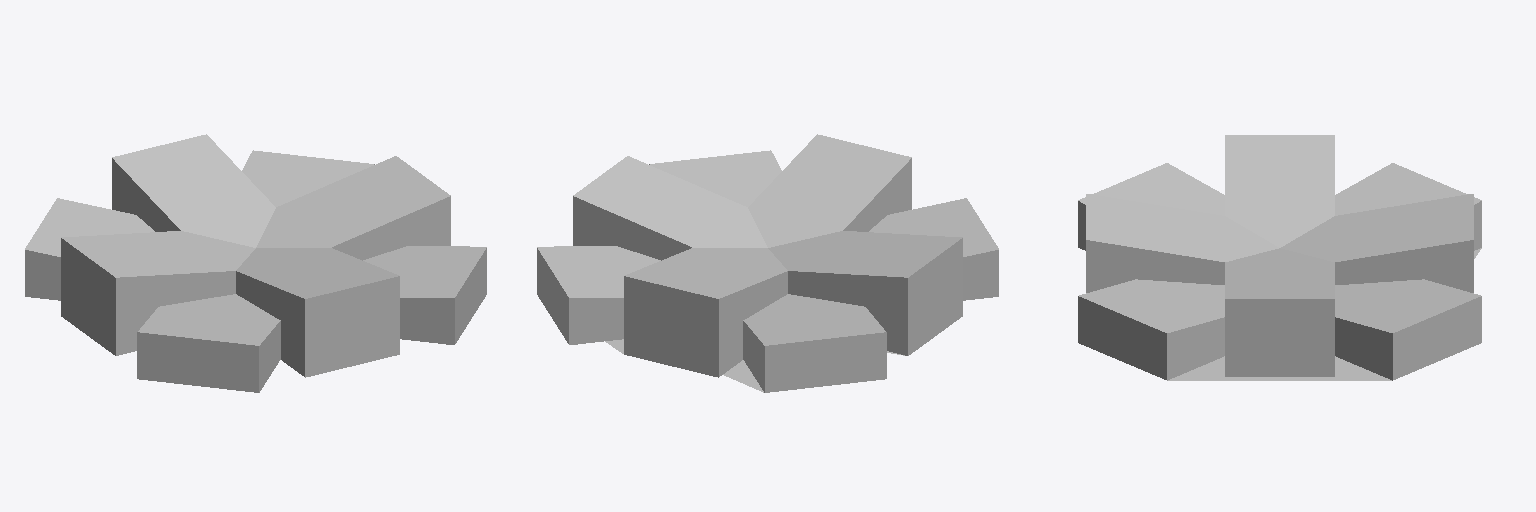
Rendered from Campfire_01.obj.
The picture shows the model from 3 angles: view 1: azimuth 30°, elevation 25°; view 2: azimuth 150°, elevation 25°; view 3: azimuth 270°, elevation 25°; orthographic projection.
Parts seen in each view (by area): view 1: _1, _4, _9, _6, _7, default; view 2: _1, _10, _7, _8, _9, _6, _5; view 3: _1, _2, default, _10, _9, _3.
Part boxes in pixels (left/top/right/bottom): _1: left=61, top=134, right=486, bottom=392; _4: left=137, top=276, right=399, bottom=392; _9: left=25, top=198, right=154, bottom=300; _6: left=61, top=238, right=115, bottom=355; _7: left=112, top=158, right=180, bottom=231; default: left=455, top=248, right=486, bottom=343; _1: left=537, top=134, right=998, bottom=392; _10: left=537, top=248, right=718, bottom=377; _7: left=719, top=271, right=907, bottom=392; _8: left=765, top=332, right=886, bottom=392; _9: left=743, top=294, right=885, bottom=345; _6: left=908, top=238, right=962, bottom=355; _5: left=963, top=250, right=998, bottom=300; _1: left=1078, top=135, right=1481, bottom=380; _2: left=1225, top=299, right=1334, bottom=376; default: left=1078, top=296, right=1166, bottom=379; _10: left=1393, top=296, right=1481, bottom=379; _9: left=1335, top=163, right=1481, bottom=215; _3: left=1167, top=317, right=1224, bottom=380.
Size of the model in its own units: 0.6993 by 0.15 by 0.6993.